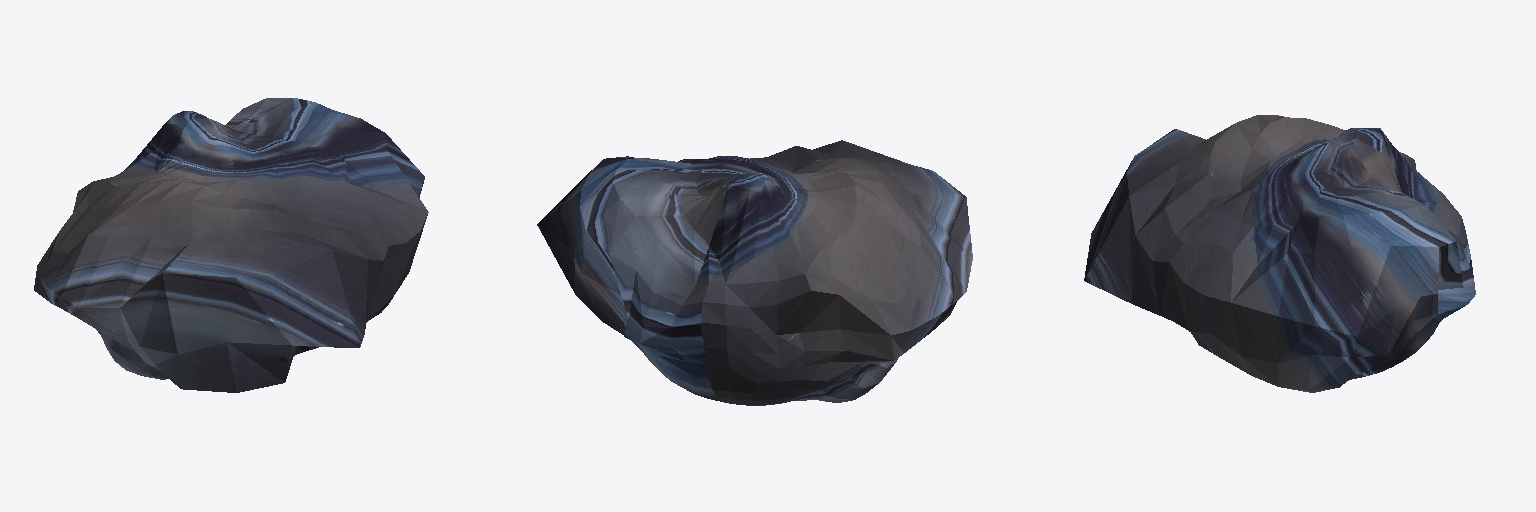
3 renders of one model, left to right at view 1: azimuth 30°, elevation 25°; view 2: azimuth 150°, elevation 25°; view 3: azimuth 270°, elevation 25°, orthographic.
Visible parts, largest first — view 1: Sphere.003; view 2: Sphere.003; view 3: Sphere.003.
Boxes of the visible parts, x1,y1,x2,y2 form: Sphere.003: [34, 98, 428, 392]; Sphere.003: [537, 140, 972, 405]; Sphere.003: [1084, 115, 1475, 392].
Size of the model in its own units: 7.81 by 4.44 by 6.9.
Materials: 1 (1 with a texture image).